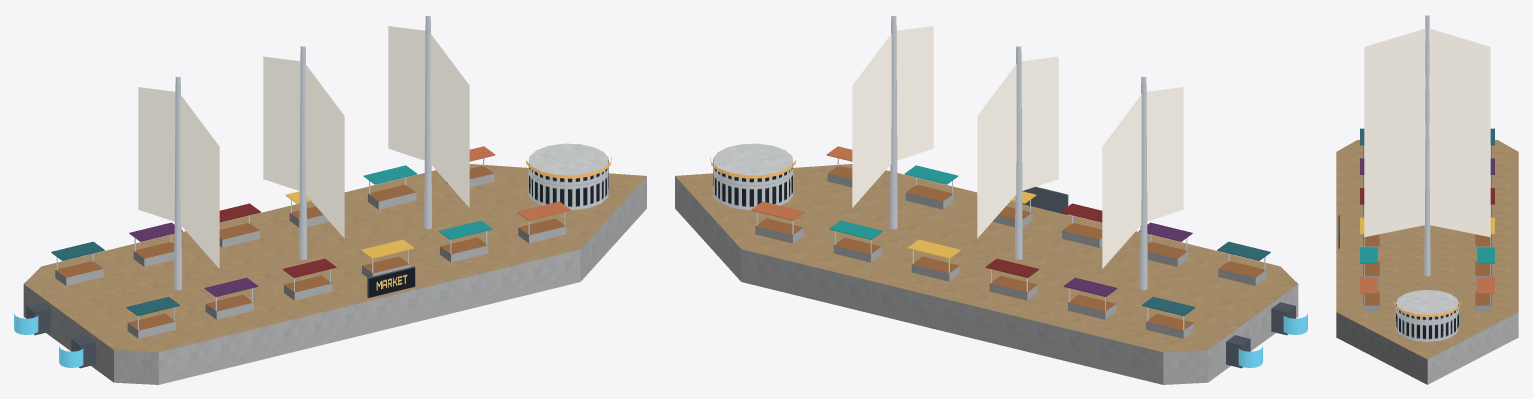
Rendered from tradeship_market_village.glb.
The picture shows the model from 3 angles, left to right: view 1: azimuth 30°, elevation 25°; view 2: azimuth 150°, elevation 25°; view 3: azimuth 270°, elevation 25°; orthographic projection. The views are drawn at different scales.
Visible parts, largest first — view 1: tradeship_market_village_LOD0; view 2: tradeship_market_village_LOD0; view 3: tradeship_market_village_LOD0.
Part boxes in pixels (x1,y1,x2,y2): tradeship_market_village_LOD0: (14,15,646,384); tradeship_market_village_LOD0: (675,15,1307,384); tradeship_market_village_LOD0: (1336,15,1518,384).
Size of what is drawn, in the model's own units: 77.9 by 30.2 by 26.
Materials: 3 (3 with a texture image).
